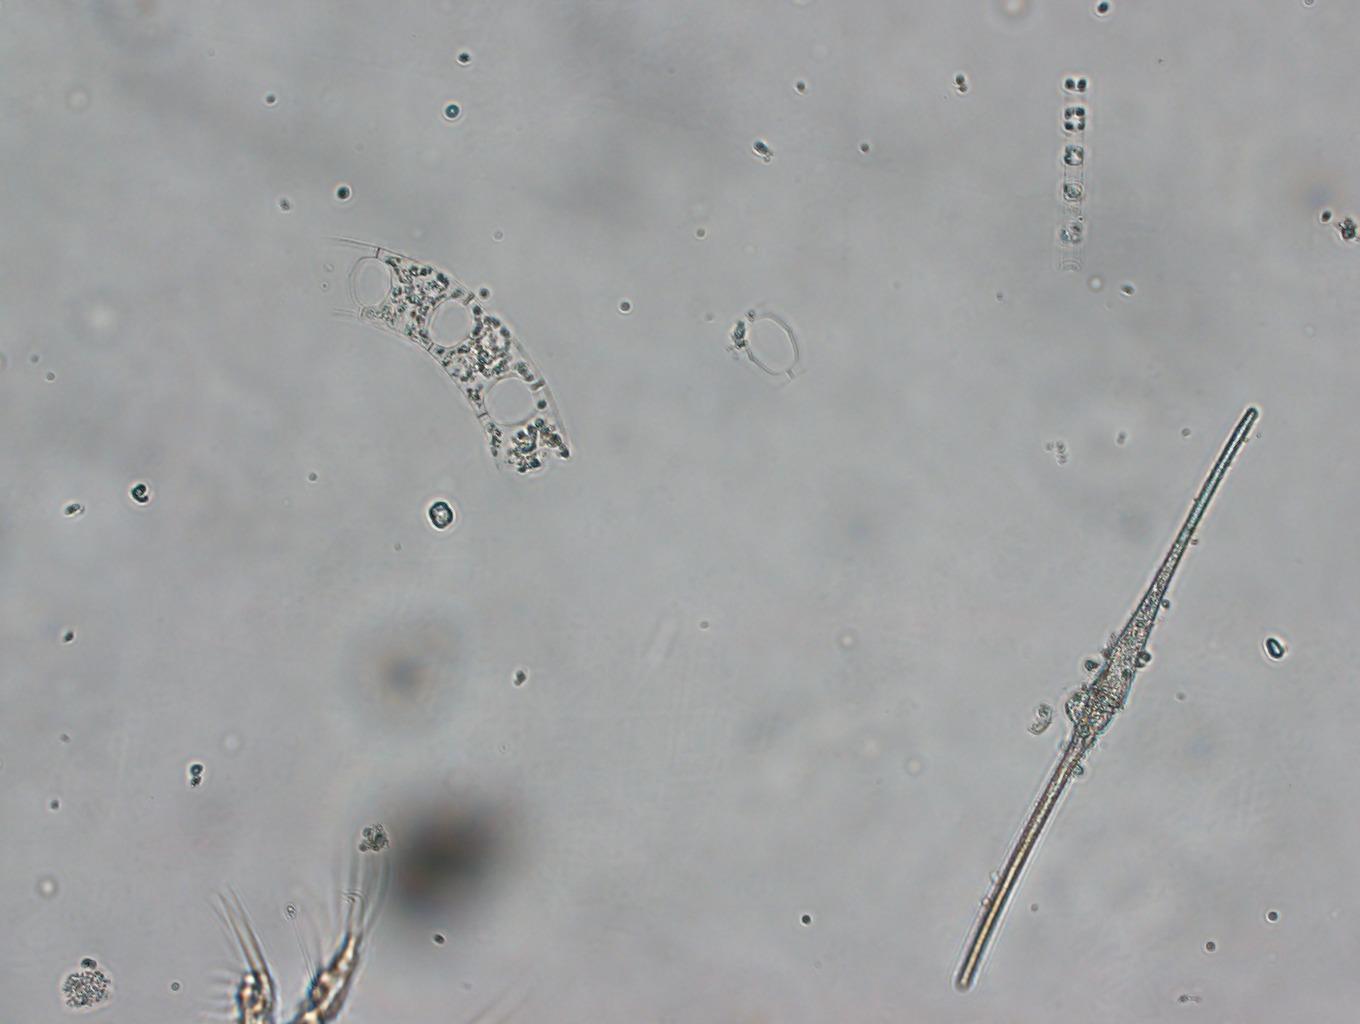ceratium fusus: (948, 395, 1276, 990)
eucampia: (356, 238, 588, 488)
skeletonema: (1057, 69, 1103, 276)
